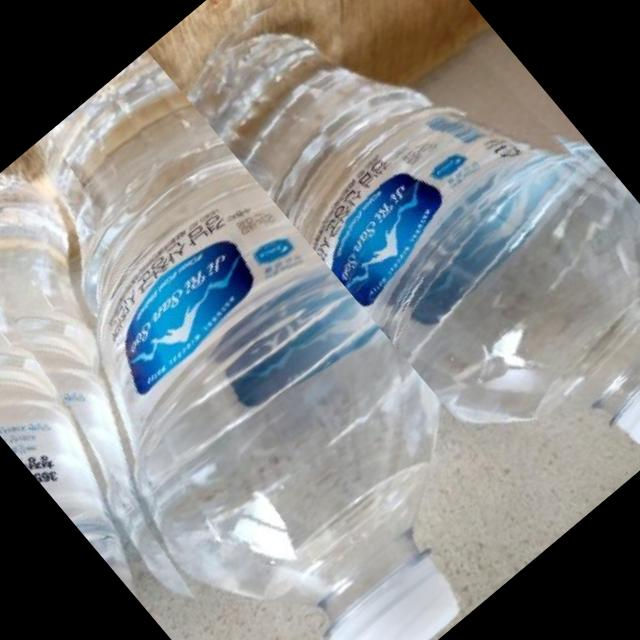plastic bottle: (0, 49, 554, 640), (145, 0, 640, 553)
